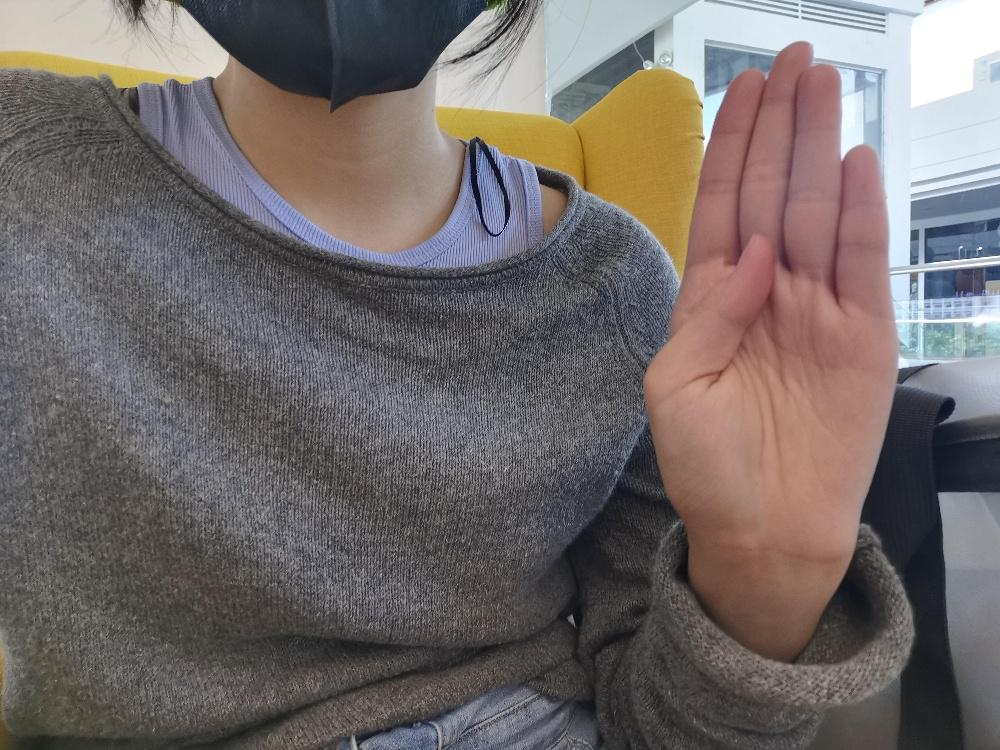b: (637, 35, 902, 562)
